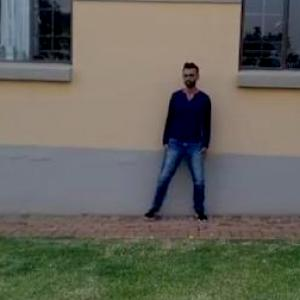follow: (164, 59, 212, 222)
